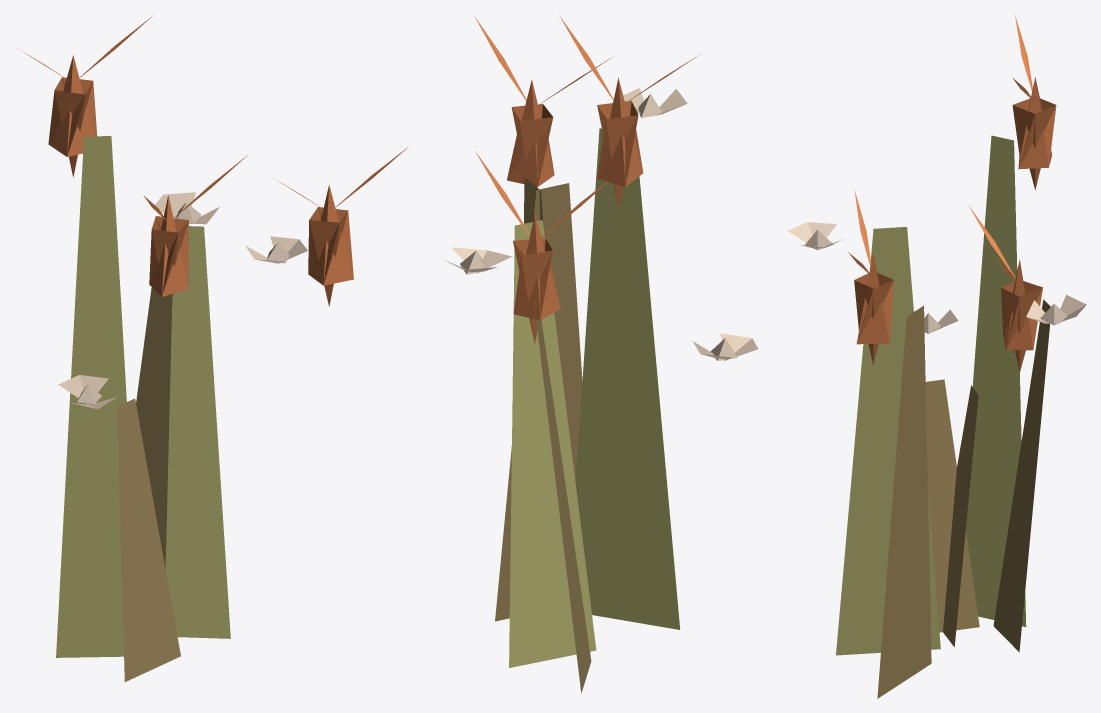
The model's file is nong.mai__autumn.glb.
The picture shows the model from 3 angles, left to right: view 1: azimuth 30°, elevation 25°; view 2: azimuth 150°, elevation 25°; view 3: azimuth 270°, elevation 25°; orthographic projection. The views are drawn at different scales.
Visible parts, largest first — view 1: nong.mai__autumn; view 2: nong.mai__autumn; view 3: nong.mai__autumn.
Boxes of the visible parts, box(x1,y1,x2,y2) form: nong.mai__autumn: box(19, 14, 409, 681); nong.mai__autumn: box(442, 15, 758, 693); nong.mai__autumn: box(787, 15, 1086, 698).
Size of the model in its own units: 0.5635 by 1.09 by 0.5144.
